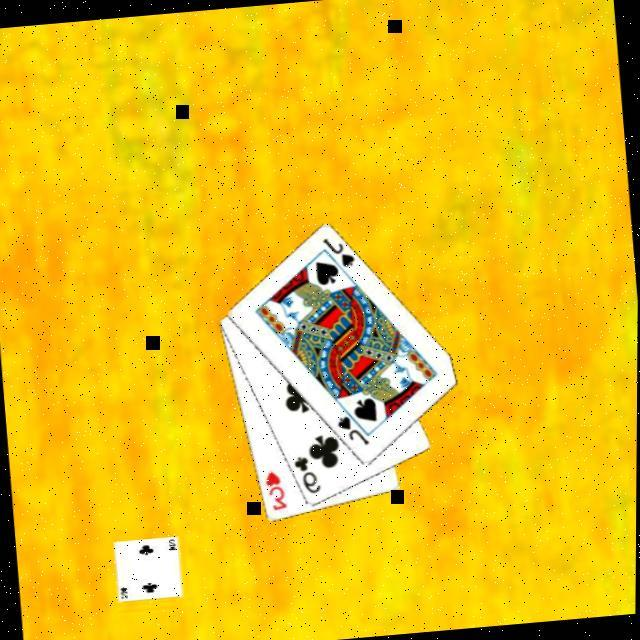3H: (260, 468, 289, 515)
6C: (288, 453, 322, 499)
JS: (316, 233, 356, 273), (331, 412, 370, 451)
